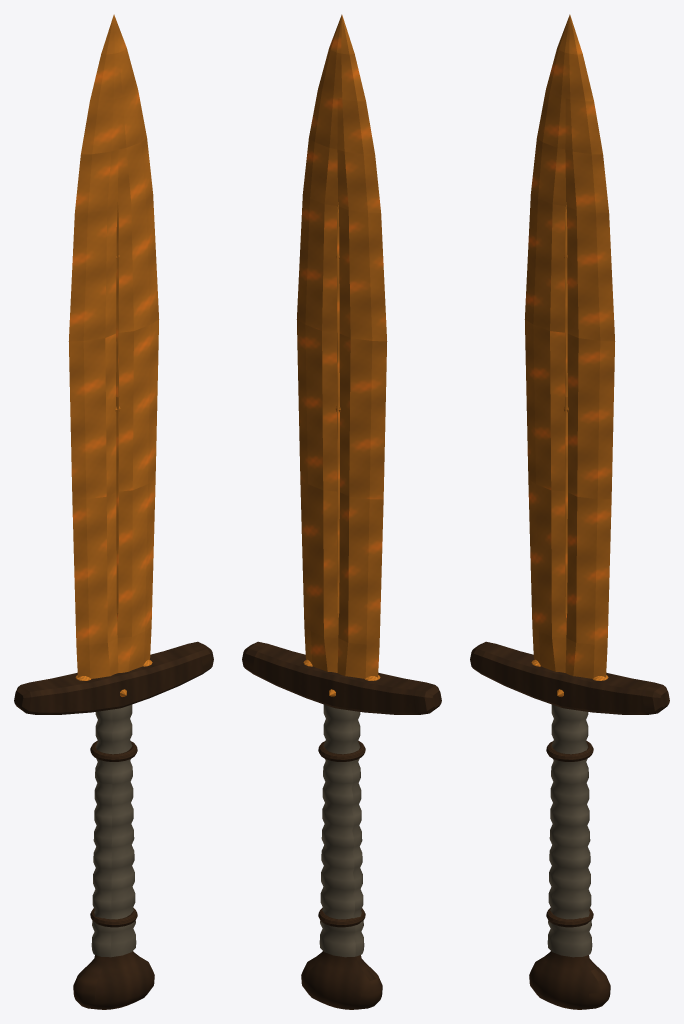
Rendered from underworld-weapon-amber-blade.glb.
The picture shows the model from 3 angles, left to right: view 1: azimuth 30°, elevation 25°; view 2: azimuth 150°, elevation 25°; view 3: azimuth 330°, elevation 25°; orthographic projection.
Parts seen in each view (by area): view 1: blade, grip, guard, pommel, blade-core, amber/grip-collar-1; view 2: blade, grip, guard, pommel, blade-core, amber/grip-collar-1; view 3: blade, grip, guard, pommel, blade-core, amber/grip-collar-1.
Part boxes in pixels (x1=…): blade: x1=68, y1=14, x2=159, y2=678; grip: x1=91, y1=704, x2=136, y2=957; guard: x1=14, y1=641, x2=213, y2=714; pommel: x1=73, y1=951, x2=154, y2=1009; blade-core: x1=116, y1=202, x2=119, y2=620; amber/grip-collar-1: x1=90, y1=740, x2=137, y2=761; blade: x1=296, y1=14, x2=387, y2=678; grip: x1=319, y1=704, x2=364, y2=957; guard: x1=242, y1=641, x2=441, y2=714; pommel: x1=301, y1=951, x2=382, y2=1009; blade-core: x1=337, y1=202, x2=339, y2=620; amber/grip-collar-1: x1=318, y1=740, x2=365, y2=761; blade: x1=524, y1=14, x2=615, y2=678; grip: x1=547, y1=704, x2=592, y2=957; guard: x1=470, y1=641, x2=669, y2=714; pommel: x1=529, y1=951, x2=610, y2=1009; blade-core: x1=565, y1=202, x2=567, y2=620; amber/grip-collar-1: x1=546, y1=740, x2=593, y2=761.
Bounding box in the file's own units: 0.3177 × 1.56 × 0.072.
3 materials, 3 textured.
